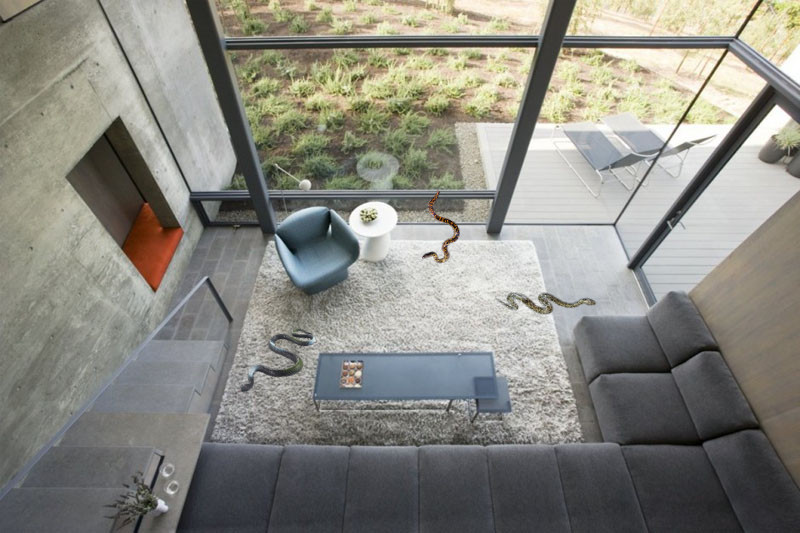snake: (241, 326, 318, 393), (420, 193, 461, 266), (495, 291, 599, 318)
